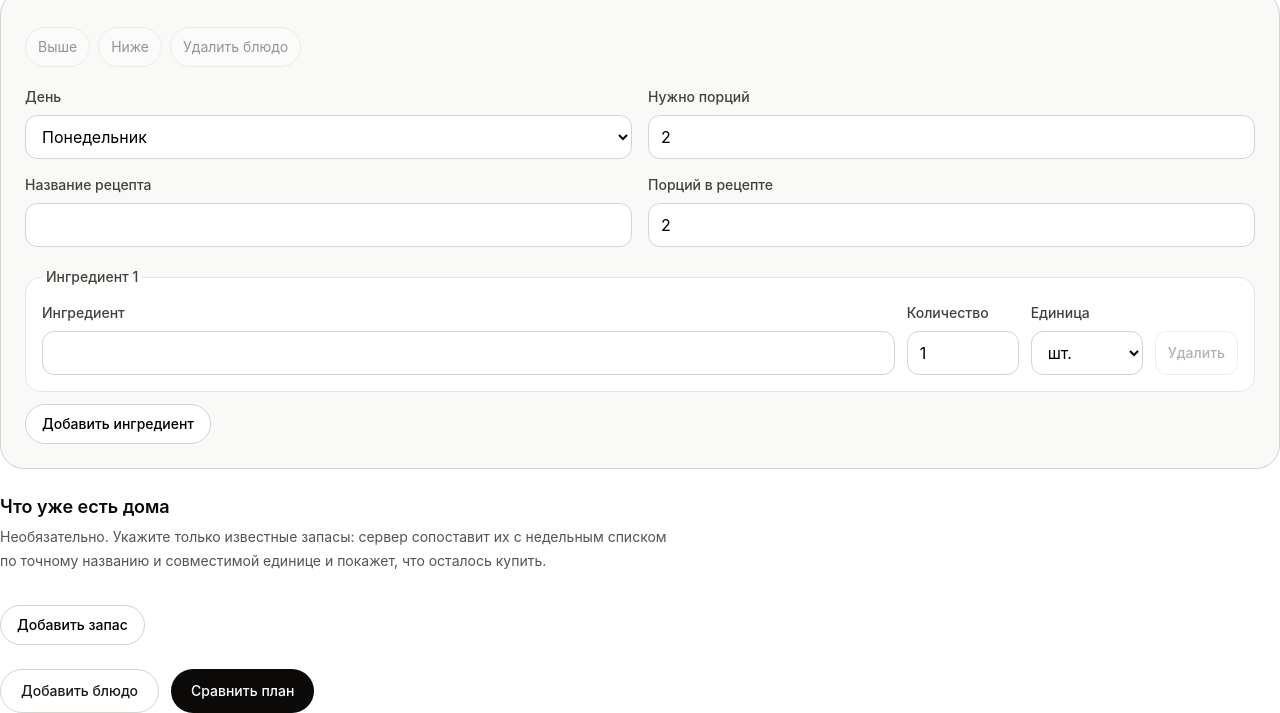
WeeklyPlan Pantry optimization form › rejects invalid weekly-plan input before contacting the backend
(page scrolled)
Click the button "Сравнить план": (243, 691) x1=171 y1=669 x2=314 y2=712
(page scrolled)
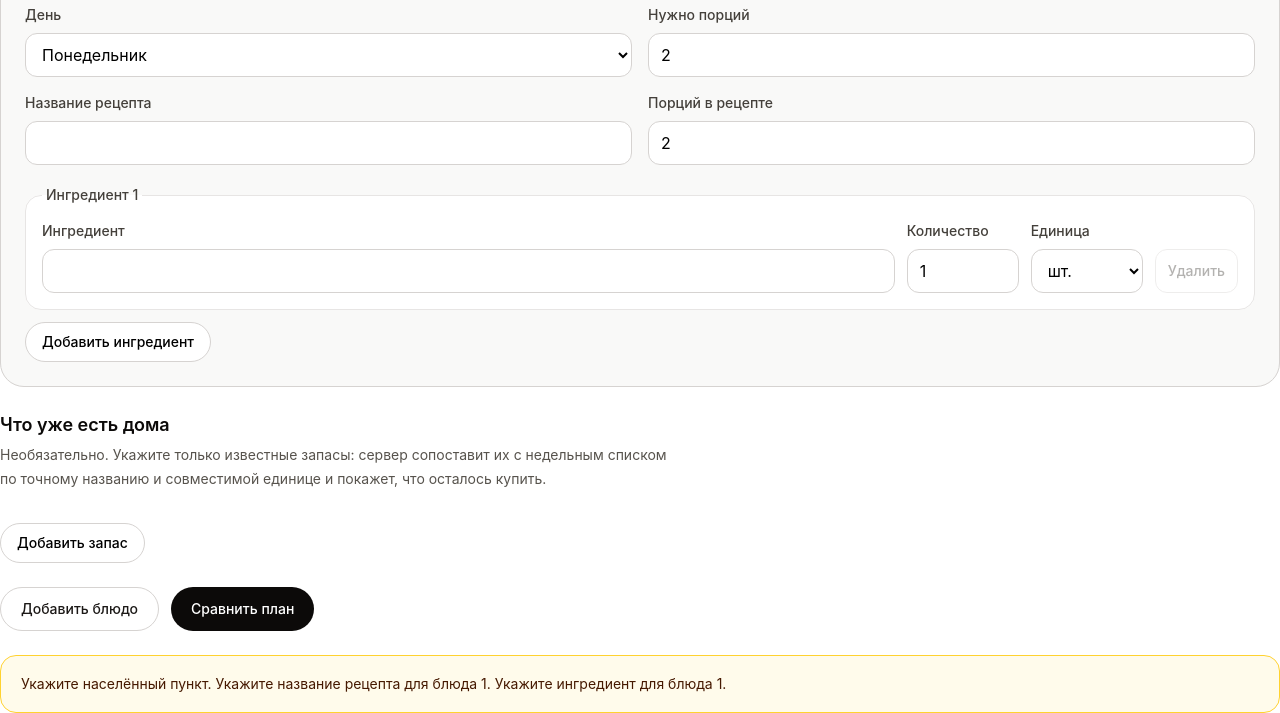
Check: the message shows "Укажите населённый пункт", box x1=21 y1=675 x2=726 y2=692
Check: the message shows "Укажите название рецепта для блюда 1", box x1=21 y1=675 x2=726 y2=692
Check: the message shows "Укажите ингредиент для блюда 1", box x1=21 y1=675 x2=726 y2=692
